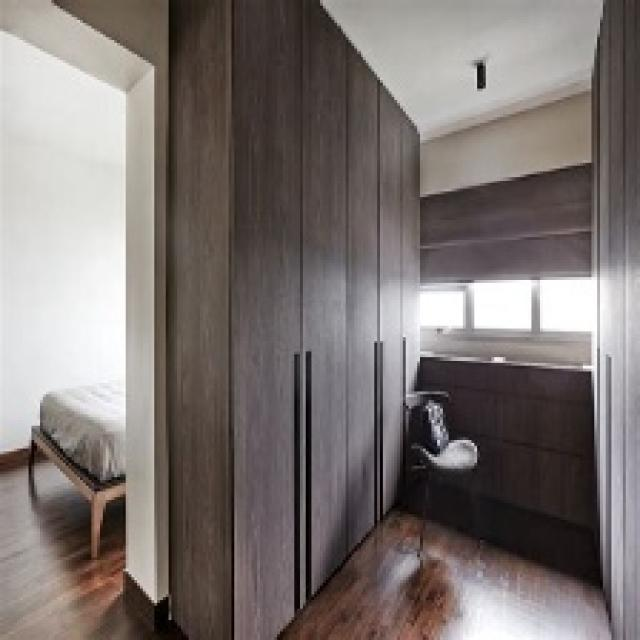Bed: (26, 377, 126, 557)
